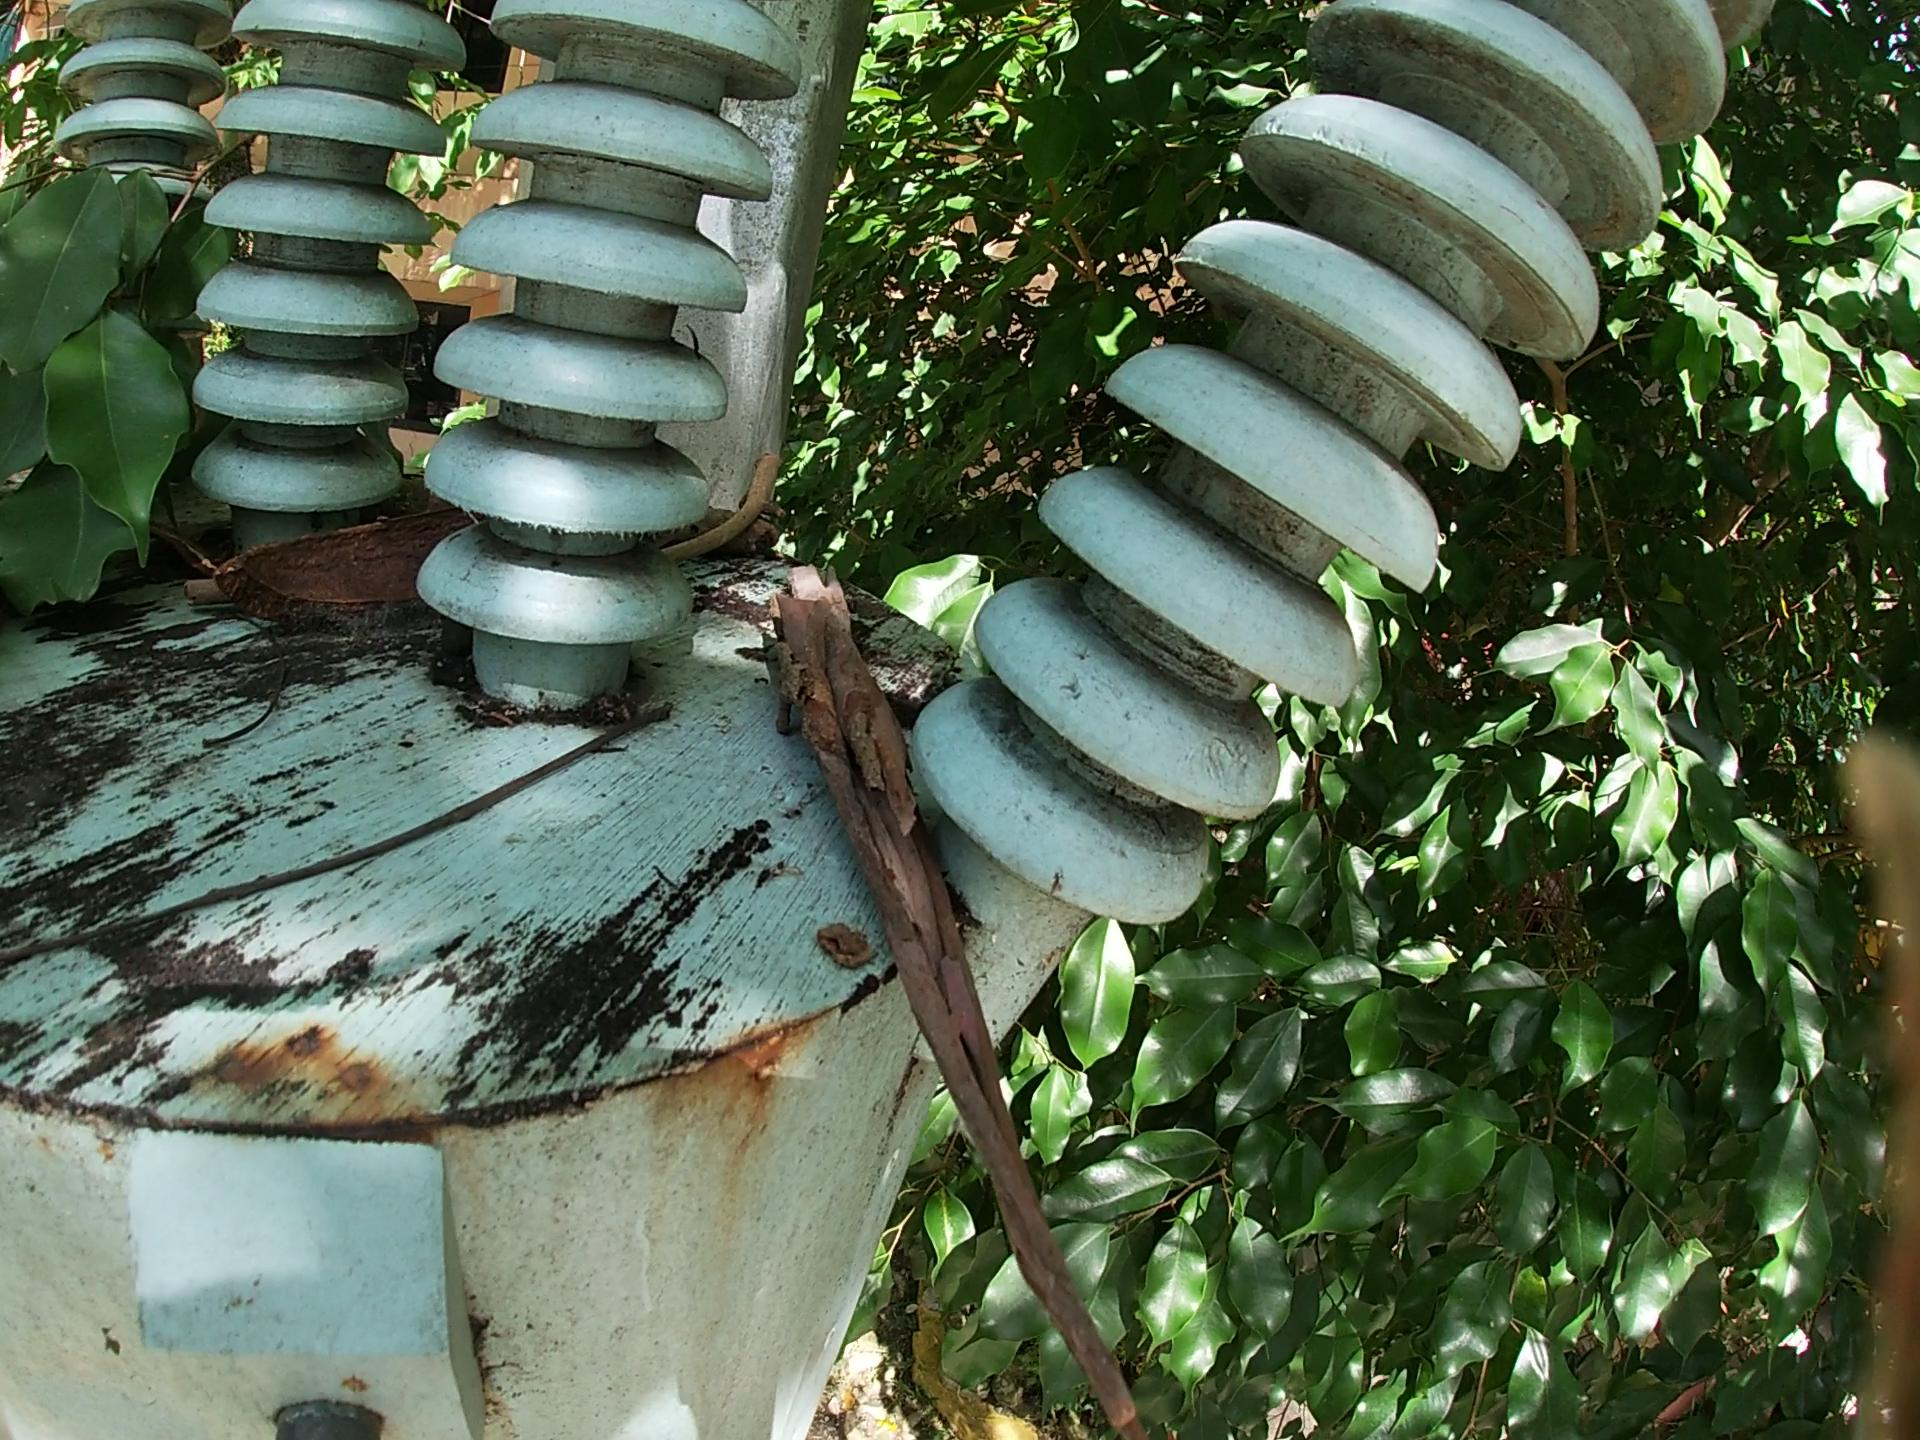branch with leaves: (2, 50, 296, 708)
mahogany fruit: (195, 504, 488, 650)
tree branch: (759, 532, 1172, 1423), (2, 678, 706, 982), (676, 451, 800, 569), (198, 601, 274, 753), (656, 496, 785, 551), (171, 582, 213, 625)
